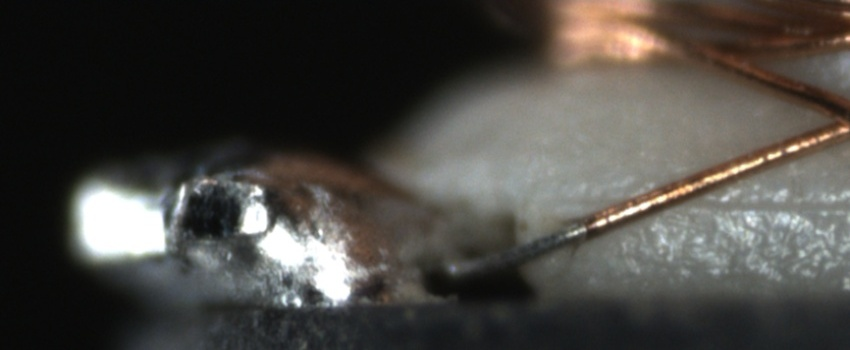CL: (802, 85, 849, 146)
DL: (561, 177, 850, 228)
TS: (442, 221, 588, 282)
